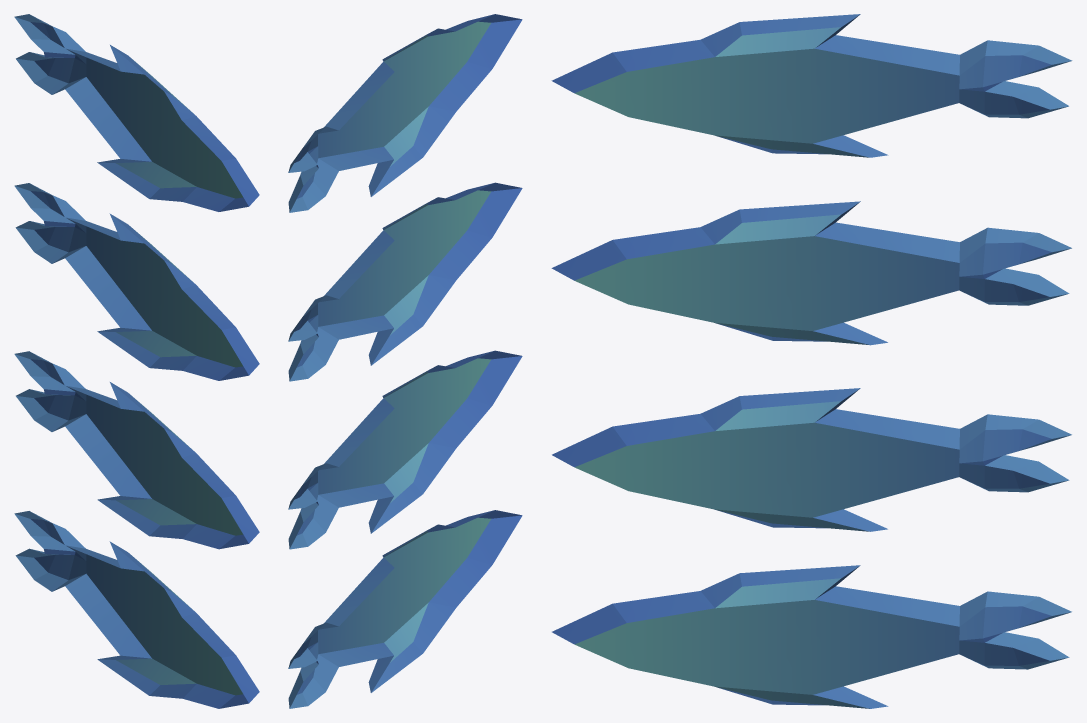
File: Fish.fbx
The picture shows the model from 3 angles, left to right: view 1: azimuth 30°, elevation 25°; view 2: azimuth 150°, elevation 25°; view 3: azimuth 270°, elevation 25°; orthographic projection. The views are drawn at different scales.
Parts seen in each view (by area): view 1: Fish; view 2: Fish; view 3: Fish.
Part boxes in pixels (x1=…): Fish: x1=14, y1=14, x2=259, y2=708; Fish: x1=288, y1=14, x2=522, y2=708; Fish: x1=551, y1=14, x2=1072, y2=708.
Size of the model in its own units: 0.3547 by 10.05 by 6.86.
